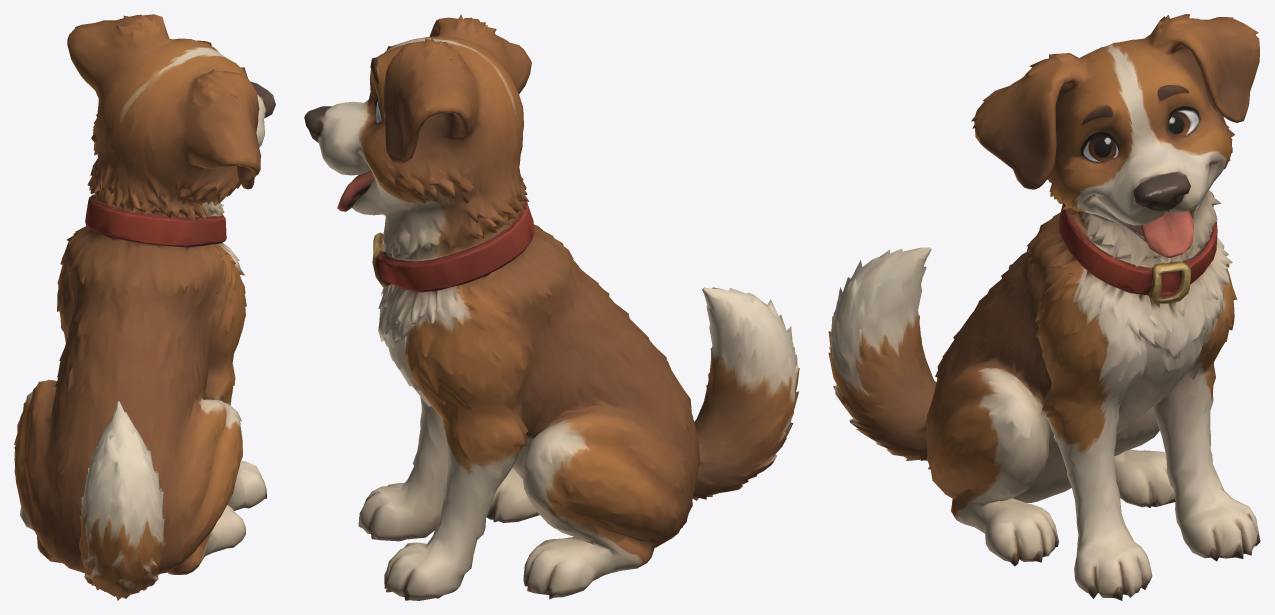
The model's file is perro.glb.
3 views of the same model, side by side, from view 1: azimuth 30°, elevation 25°; view 2: azimuth 150°, elevation 25°; view 3: azimuth 270°, elevation 25° (orthographic). The views are drawn at different scales.
Visible parts, largest first — view 1: tripo_node_58e68e61-b5c4-46ec-bf51-30c8fc8b63c5; view 2: tripo_node_58e68e61-b5c4-46ec-bf51-30c8fc8b63c5; view 3: tripo_node_58e68e61-b5c4-46ec-bf51-30c8fc8b63c5.
Part boxes in pixels (bbox=[...]): tripo_node_58e68e61-b5c4-46ec-bf51-30c8fc8b63c5: bbox=[14, 14, 275, 600]; tripo_node_58e68e61-b5c4-46ec-bf51-30c8fc8b63c5: bbox=[304, 14, 799, 600]; tripo_node_58e68e61-b5c4-46ec-bf51-30c8fc8b63c5: bbox=[828, 14, 1260, 600].
Bounding box in the file's own units: 0.6846 × 1 × 0.7314.
1 material, 1 textured.
